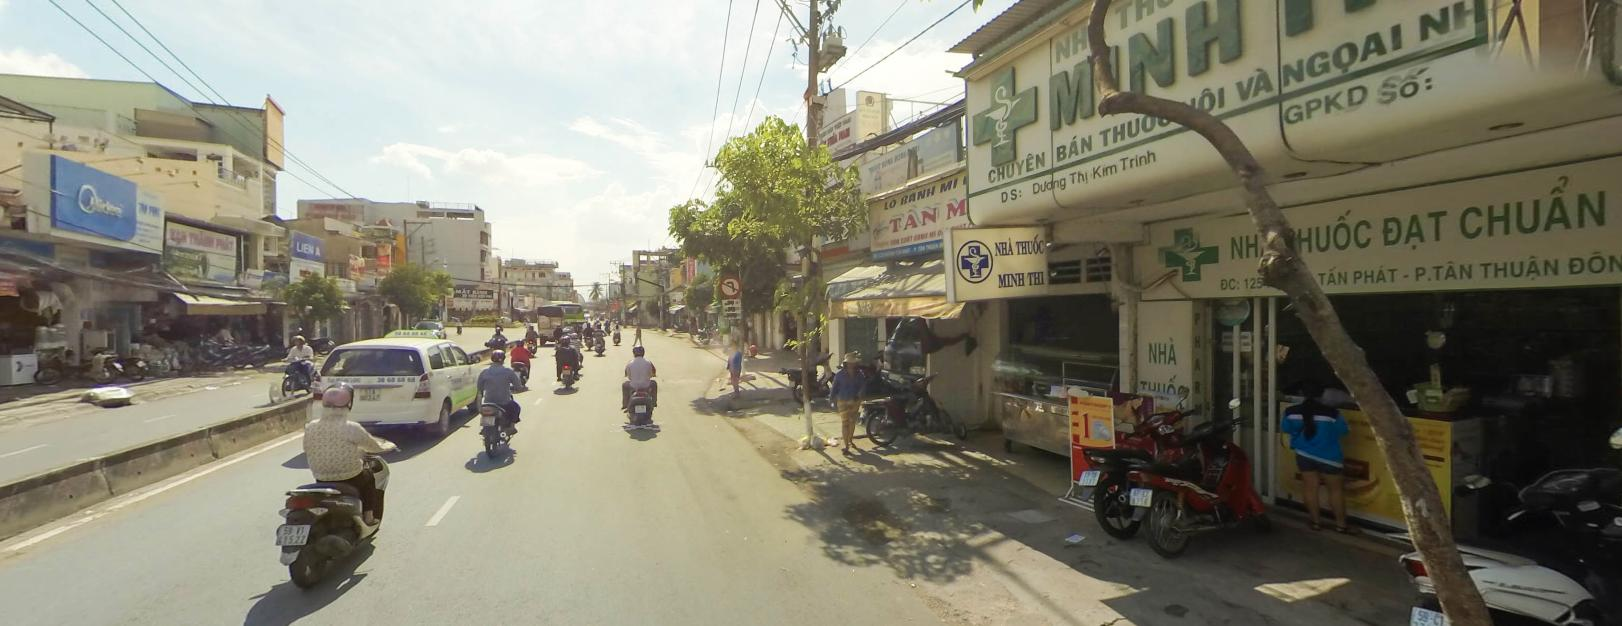Cam re: (720, 275, 739, 294)
